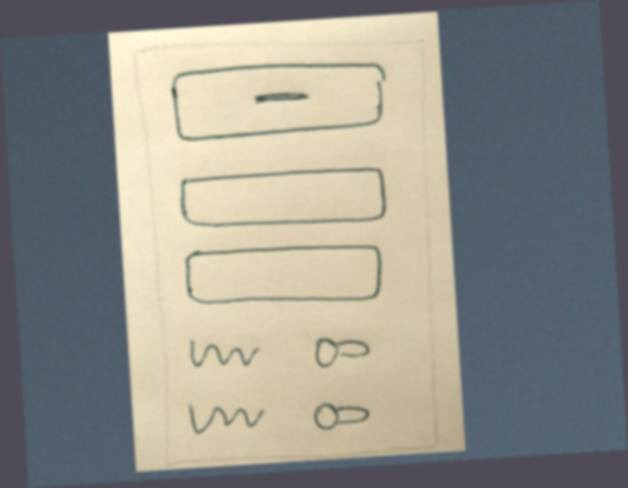button: (165, 53, 393, 147)
switch: (309, 325, 374, 376), (309, 388, 374, 439)
text: (184, 390, 269, 441), (182, 330, 266, 380)
text_input: (175, 158, 392, 241), (176, 234, 393, 317)
